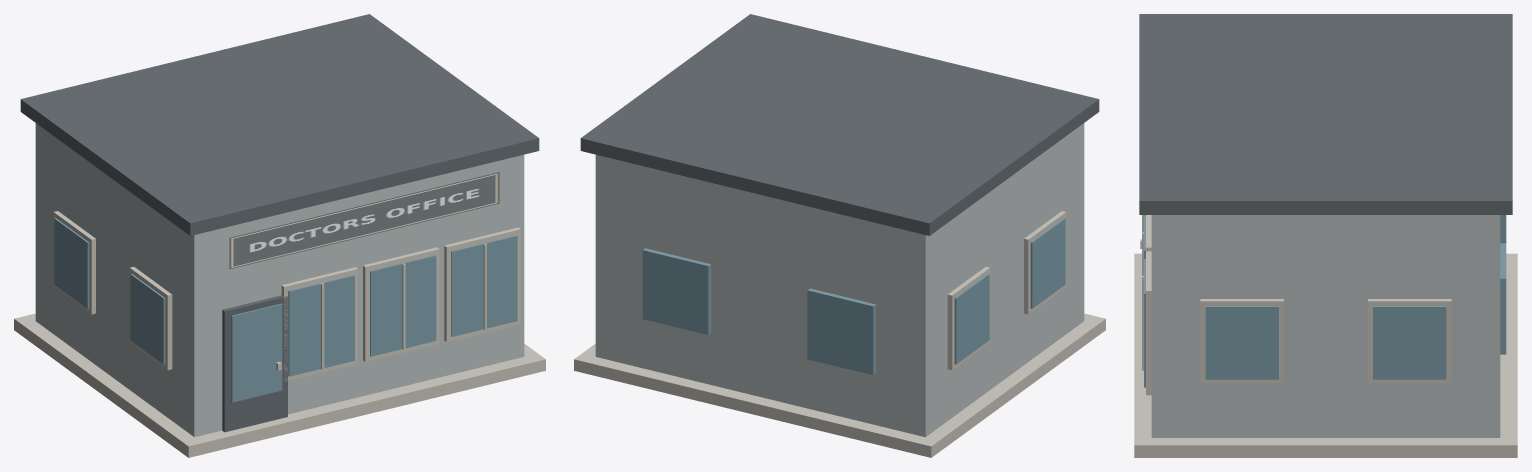
Rendered from doctors_office.glb.
The picture shows the model from 3 angles, left to right: view 1: azimuth 30°, elevation 25°; view 2: azimuth 150°, elevation 25°; view 3: azimuth 270°, elevation 25°; orthographic projection. The views are drawn at different scales.
Parts seen in each view (by area): view 1: world; view 2: world; view 3: world.
Boxes of the visible parts, x1=… form: world: x1=14, y1=14, x2=545, y2=457; world: x1=574, y1=14, x2=1105, y2=457; world: x1=1134, y1=14, x2=1517, y2=457.
Size of the model in its own units: 6.5 by 4.03 by 5.5.
2 materials, 1 textured.
